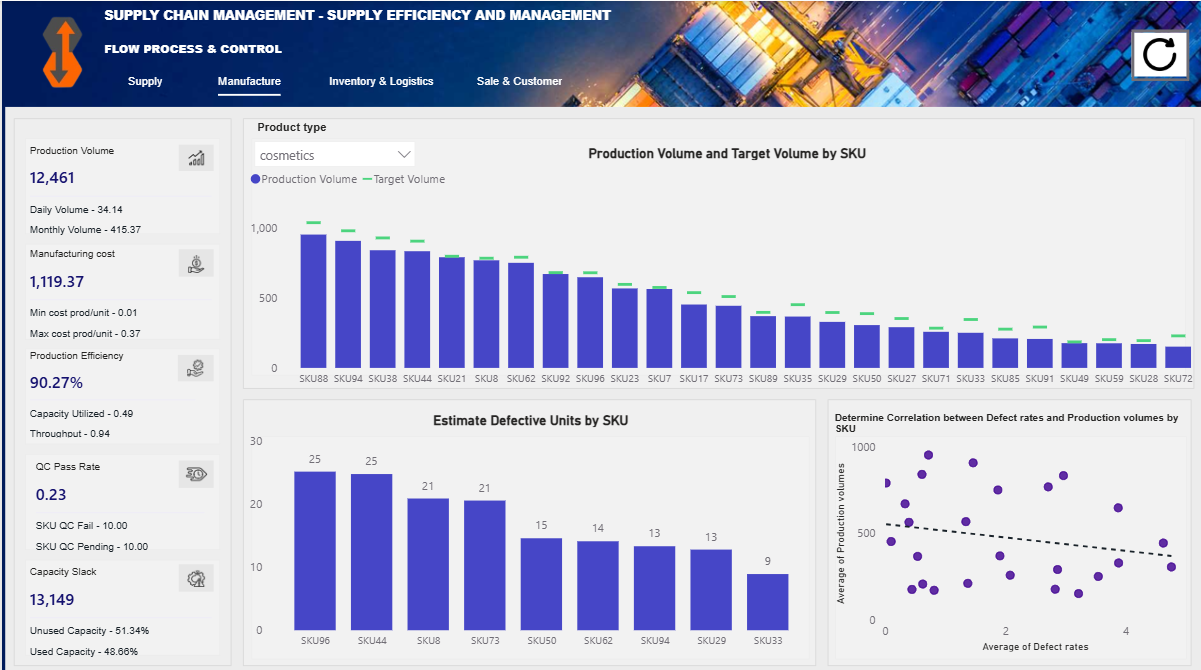

The page's visual inventory and layout, read from the dashboard file:
{"tool":"powerbi","page":{"name":"Manufacture","canvas":[1280,720],"ordinal":1},"visuals":[{"type":"image","box":[1198.4,33.8,59.7,46.8],"z":0,"group":"g2"},{"type":"actionButton","box":[205.2,74.8,114.5,20.7],"z":0,"group":"g1"},{"type":"cardVisual","title":"Production Volume","fields":{"Data":["Manufacture_Measure.Production Volume"]},"box":[25.8,152.8,205.6,96.6],"z":0},{"type":"actionButton","box":[1198.4,30.6,61.3,54.8],"z":1000,"group":"g2"},{"type":"shape","box":[229.3,93.8,66.4,11.3],"z":1000,"group":"g1"},{"type":"cardVisual","title":"Production Efficiency","fields":{"Data":["Manufacture_Measure.Production Efficiency"]},"box":[25.4,370.4,188.7,93],"z":1000},{"type":"cardVisual","title":"Manufacturing cost","fields":{"Data":["Manufacture_Measure.Manufacturing Cost"]},"box":[25.8,262.9,205.6,96.6],"z":2000},{"type":"cardVisual","title":"QC Pass Rate","fields":{"Data":["Manufacture_Measure.QC Pass Rate"]},"box":[32.1,488.4,192,96.4],"z":3000},{"type":"cardVisual","title":"Capacity Slack","fields":{"Data":["Manufacture_Measure.Target Achievement Rate"]},"box":[25.9,599.1,205.4,96.4],"z":4000},{"type":"lineClusteredColumnComboChart","fields":{"Category":["Sheet1.SKU"],"Y":["Manufacture_Measure.Production Volume"],"Y2":["Manufacture_Measure.Target Volume"]},"box":[257.7,152.7,1022.8,264],"z":5000},{"type":"slicer","fields":{"Values":["Sheet1.Product type"]},"box":[257.6,127.3,190.9,51.5],"z":6000},{"type":"clusteredColumnChart","fields":{"Category":["Sheet1.SKU"],"Y":["Manufacture_Measure.Estimate Defective Units"]},"box":[257.6,436.4,606.1,259.1],"z":7000},{"type":"scatterChart","title":"Determine Correlation between Defect rates and Production volumes by SKU","fields":{"Category":["Sheet1.SKU"],"Y":["Avg(Sheet1.Production volumes)"],"X":["Avg(Sheet1.Defect rates)"]},"box":[877.3,436.4,386.4,259.1],"z":8000},{"type":"actionButton","box":[103.4,74.8,97,19.1],"z":9000},{"type":"actionButton","box":[319.7,74.8,165.4,20.7],"z":10000},{"type":"actionButton","box":[466,74.8,165.4,20.7],"z":11000},{"type":"group","id":"g1","title":"Group 1","box":[205.2,74.8,114.5,30.3],"z":12000},{"type":"group","id":"g2","title":"Group 2","box":[1198.4,30.6,61.3,54.8],"z":13000},{"type":"image","box":[38.2,14.3,52.5,79.5],"z":14000},{"type":"textbox","box":[103.4,0,574.2,39.8],"z":15000},{"type":"textbox","box":[103.4,35,574.2,39.8],"z":16000}]}

Visuals, with their boxes on the page's 1280x720 design canvas (x1, y1, x2, y2). These are canvas units, not pixel positions in the 1201x670 screenshot, which may show the page scaled, cropped or inside an application window:
image: [left=1198, top=34, right=1258, bottom=81]
actionButton: [left=205, top=75, right=320, bottom=96]
"Production Volume" cardVisual: [left=26, top=153, right=231, bottom=249]
actionButton: [left=1198, top=31, right=1260, bottom=85]
shape: [left=229, top=94, right=296, bottom=105]
"Production Efficiency" cardVisual: [left=25, top=370, right=214, bottom=463]
"Manufacturing cost" cardVisual: [left=26, top=263, right=231, bottom=360]
"QC Pass Rate" cardVisual: [left=32, top=488, right=224, bottom=585]
"Capacity Slack" cardVisual: [left=26, top=599, right=231, bottom=696]
lineClusteredColumnComboChart - Sheet1.SKU x Manufacture_Measure.Production Volume: [left=258, top=153, right=1280, bottom=417]
slicer - Sheet1.Product type: [left=258, top=127, right=448, bottom=179]
clusteredColumnChart - Sheet1.SKU x Manufacture_Measure.Estimate Defective Units: [left=258, top=436, right=864, bottom=696]
"Determine Correlation between Defect rates and Production volumes by SKU" scatterChart: [left=877, top=436, right=1264, bottom=696]
actionButton: [left=103, top=75, right=200, bottom=94]
actionButton: [left=320, top=75, right=485, bottom=96]
actionButton: [left=466, top=75, right=631, bottom=96]
"Group 1" group: [left=205, top=75, right=320, bottom=105]
"Group 2" group: [left=1198, top=31, right=1260, bottom=85]
image: [left=38, top=14, right=91, bottom=94]
textbox: [left=103, top=0, right=678, bottom=40]
textbox: [left=103, top=35, right=678, bottom=75]
